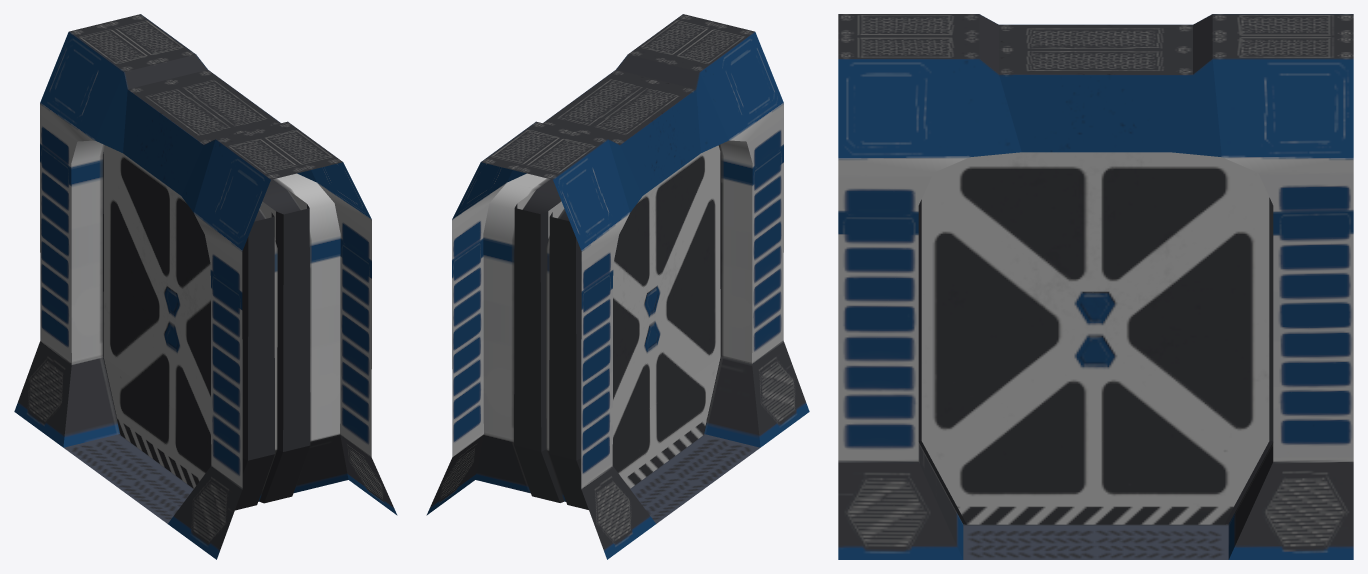
The model's file is Doorway_Sci_Fil3.fbx.
3 renders of one model, left to right at view 1: azimuth 30°, elevation 25°; view 2: azimuth 150°, elevation 25°; view 3: azimuth 270°, elevation 25°, orthographic. The views are drawn at different scales.
Visible parts, largest first — view 1: Sci_Fi_Doorway3, Sci_Fi_Door2, Sci_Fi_Door3; view 2: Sci_Fi_Doorway3, Sci_Fi_Door2, Sci_Fi_Door3; view 3: Sci_Fi_Doorway3, Sci_Fi_Door3.
Part boxes in pixels (<box>): Sci_Fi_Doorway3: <box>14,14,397,559</box>; Sci_Fi_Door2: <box>103,145,274,510</box>; Sci_Fi_Door3: <box>259,190,310,503</box>; Sci_Fi_Doorway3: <box>426,14,809,559</box>; Sci_Fi_Door2: <box>549,145,721,509</box>; Sci_Fi_Door3: <box>514,190,564,502</box>; Sci_Fi_Doorway3: <box>838,14,1353,559</box>; Sci_Fi_Door3: <box>918,152,1273,524</box>.
Size of the model in its own units: 204 by 395 by 395.
1 material, 1 textured.
